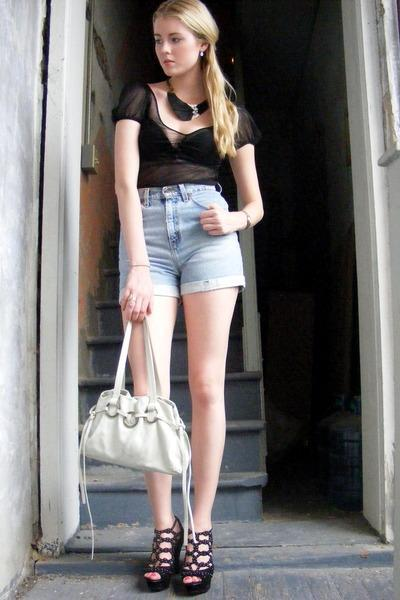bag: (78, 324, 190, 491)
shirt: (111, 82, 253, 190)
shoe: (132, 516, 213, 596)
shorts: (138, 184, 244, 297)
